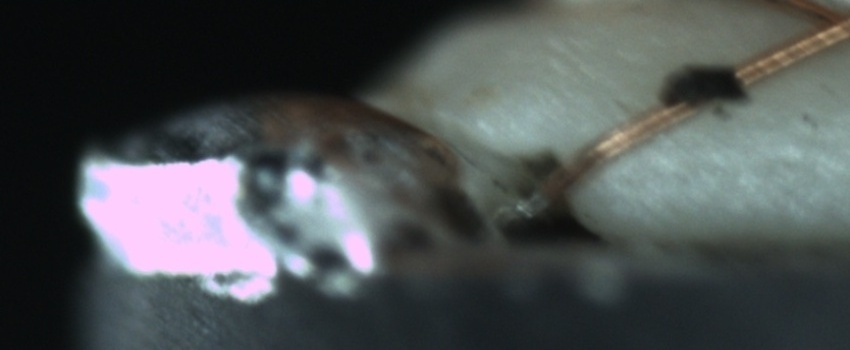CL: (795, 3, 850, 56)
